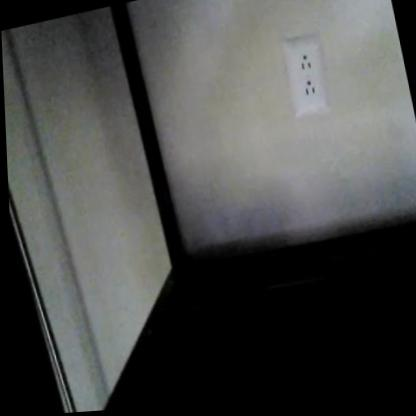OUTLET: (282, 34, 333, 118)
